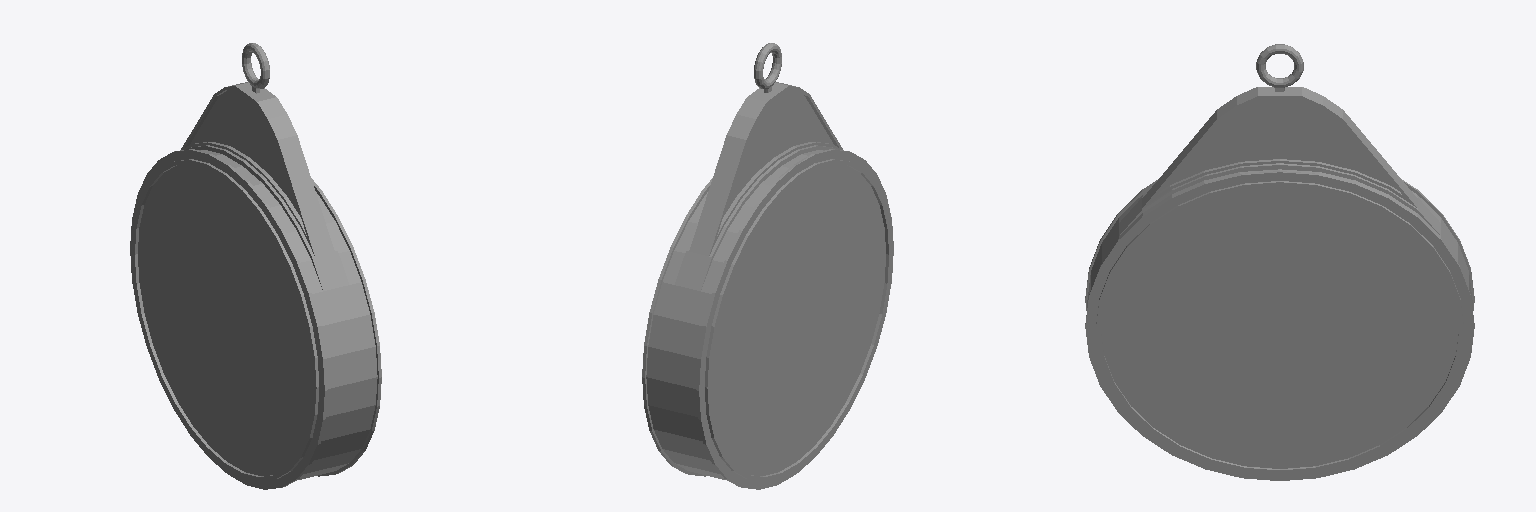
File: Clock.obj
The picture shows the model from 3 angles: view 1: azimuth 30°, elevation 25°; view 2: azimuth 150°, elevation 25°; view 3: azimuth 270°, elevation 25°; orthographic projection.
Parts seen in each view (by area): view 1: Clock; view 2: Clock; view 3: Clock.
Boxes of the visible parts, x1,y1,x2,y2 form: Clock: [130, 43, 381, 489]; Clock: [642, 43, 893, 489]; Clock: [1085, 44, 1474, 480].
Bounding box in the file's own units: 0.0933 × 0.5985 × 0.5.